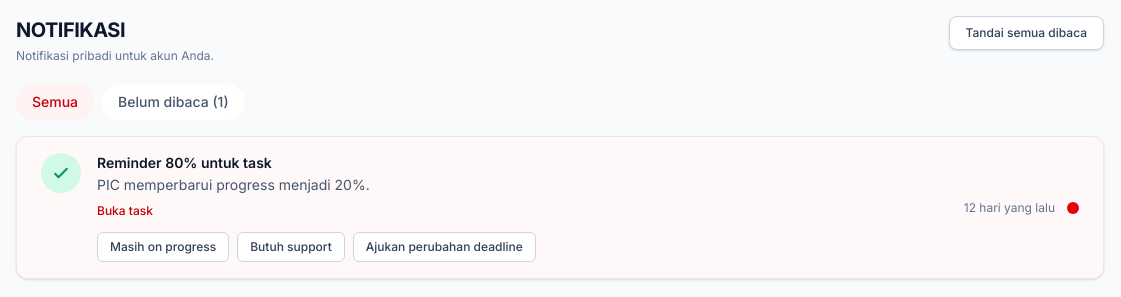
Scenario: NotificationInbox (FR-080) › lets a PIC respond to an unanswered reminder and opens the task
Click the button "Butuh support" at (291, 247), box x1=237 y1=232 x2=345 y2=262
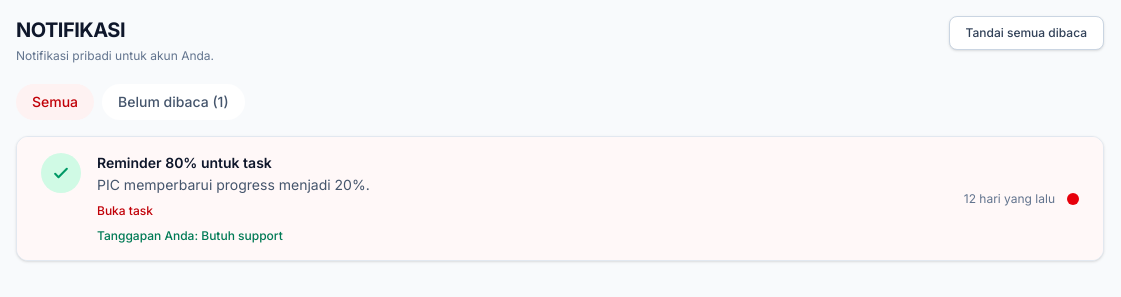
Now the text "Tanggapan Anda: Butuh support" is shown, box x1=97 y1=228 x2=283 y2=243
